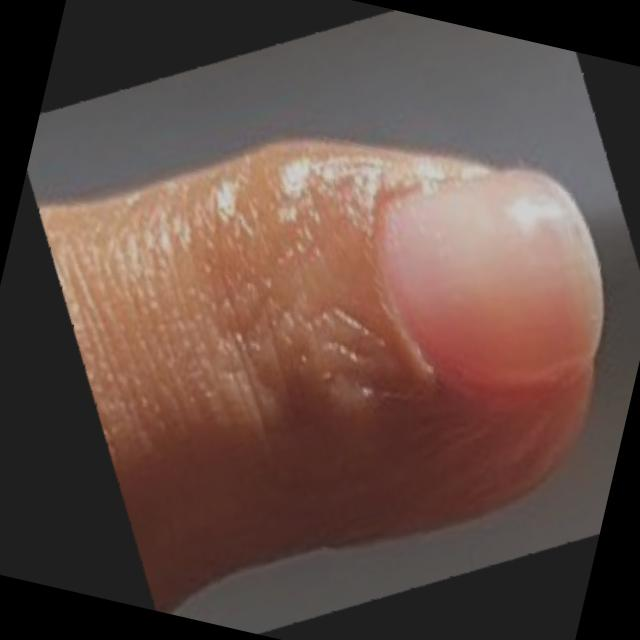Nail: (381, 171, 600, 399)
